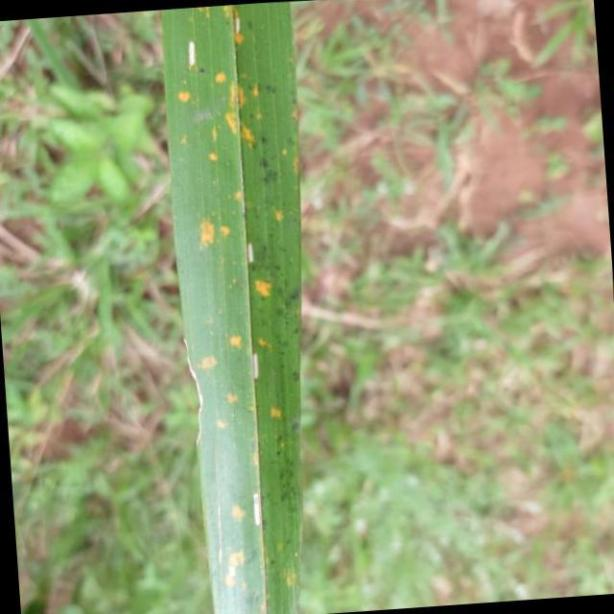Kalium: (164, 3, 296, 614)
